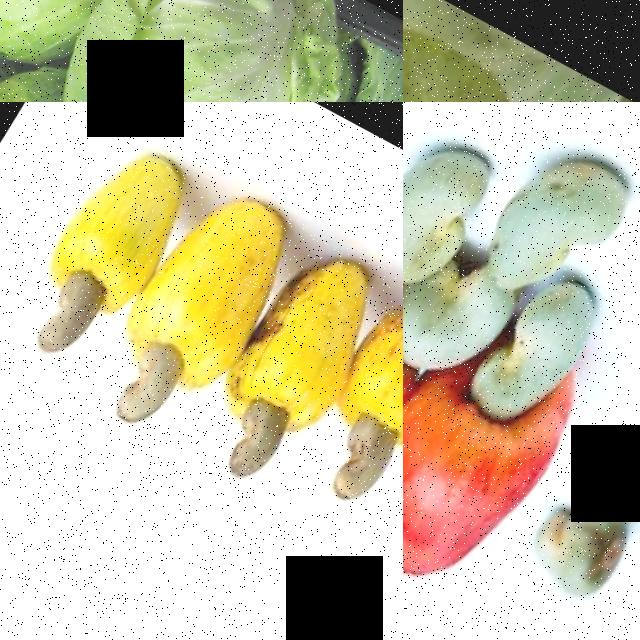cabbage: (21, 0, 359, 102), (0, 0, 156, 86), (275, 33, 403, 102)
cashew: (477, 128, 640, 314), (403, 102, 531, 301), (475, 272, 615, 434), (0, 257, 137, 409), (495, 496, 640, 634), (80, 327, 221, 463), (289, 397, 403, 553), (205, 386, 325, 500), (403, 276, 503, 390), (601, 383, 640, 575)
